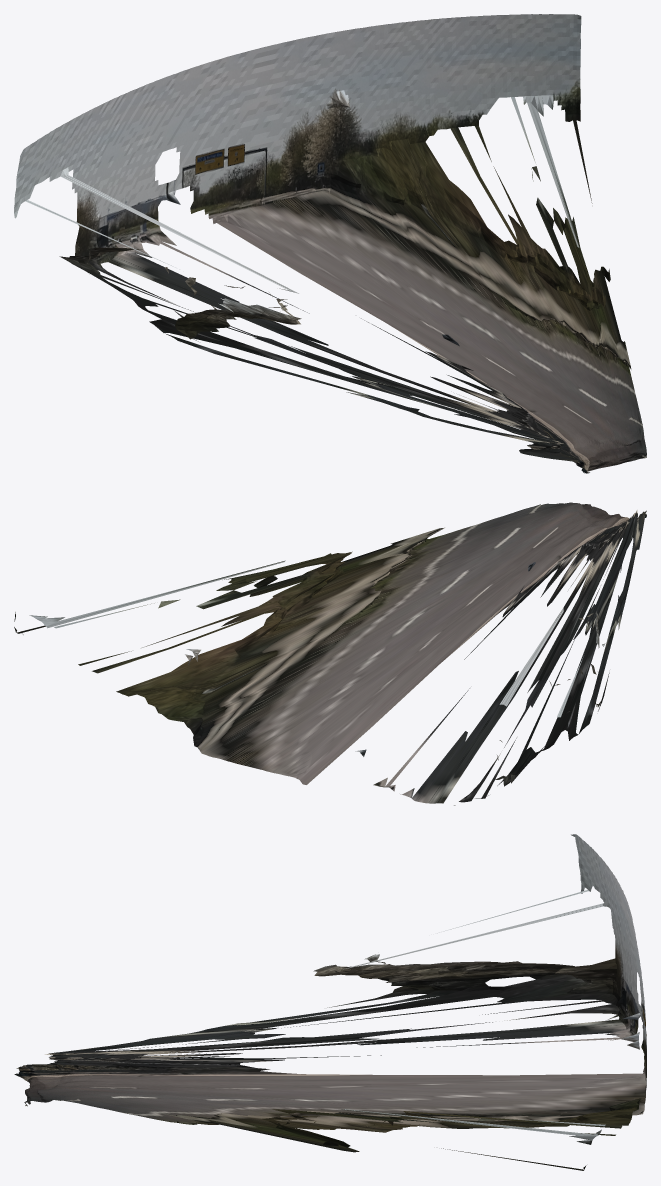
The picture shows the model from 3 angles, top to bottom: view 1: azimuth 30°, elevation 25°; view 2: azimuth 150°, elevation 25°; view 3: azimuth 270°, elevation 25°; orthographic projection. The views are drawn at different scales.
Visible parts, largest first — view 1: defaultobject; view 2: defaultobject; view 3: defaultobject.
Part boxes in pixels (x1,y1,x2,y2): defaultobject: (14, 14, 646, 473); defaultobject: (14, 502, 646, 805); defaultobject: (14, 834, 646, 1170).
Bounding box in the file's own units: 41 × 11.94 × 44.93.
1 material, 1 textured.
